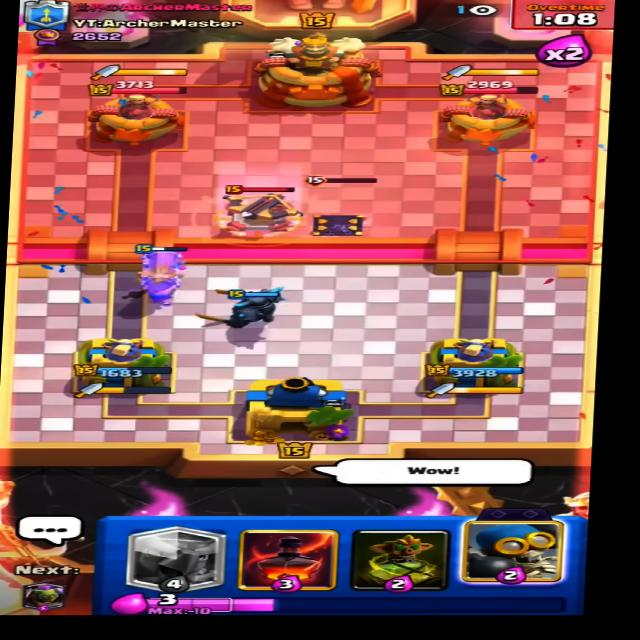evo-tesla-closed: (290, 177, 384, 240)
x-bow: (207, 183, 305, 237)
